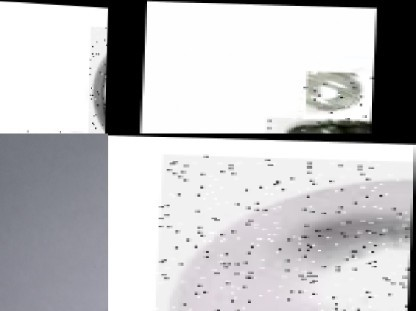ironball: (156, 152, 415, 311), (303, 68, 374, 118), (88, 23, 107, 133), (266, 114, 360, 133), (24, 127, 105, 133)
